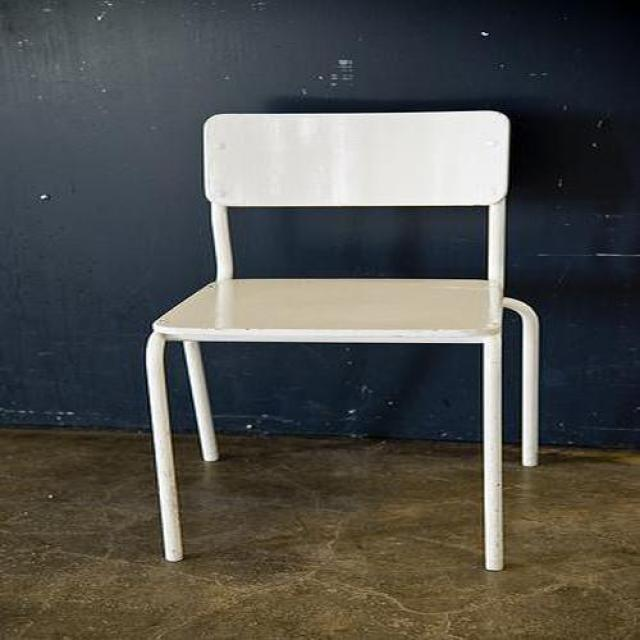chair: (146, 111, 511, 573)
